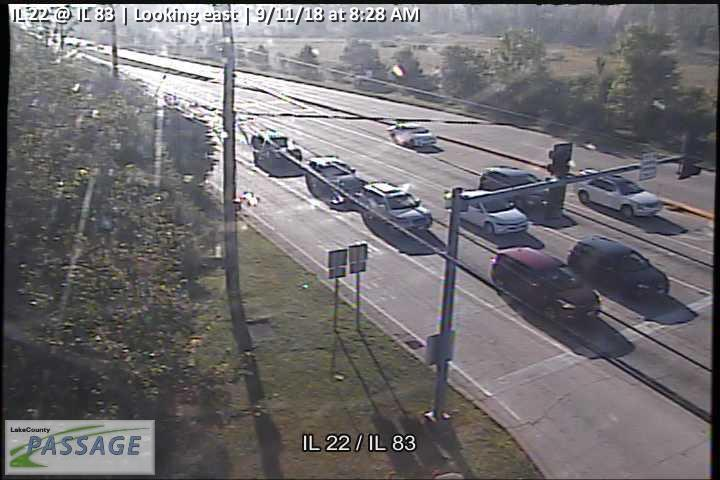SUV: (489, 246, 601, 323), (567, 234, 671, 297), (574, 168, 663, 218), (359, 182, 434, 232), (479, 165, 554, 213), (305, 156, 363, 210), (250, 130, 302, 168)
Sedan: (446, 189, 529, 235), (387, 122, 437, 146)
